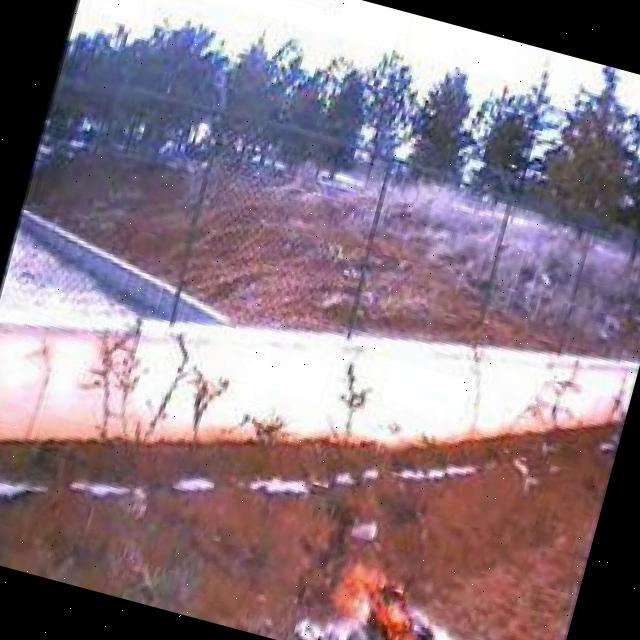fire: (300, 549, 455, 640)
